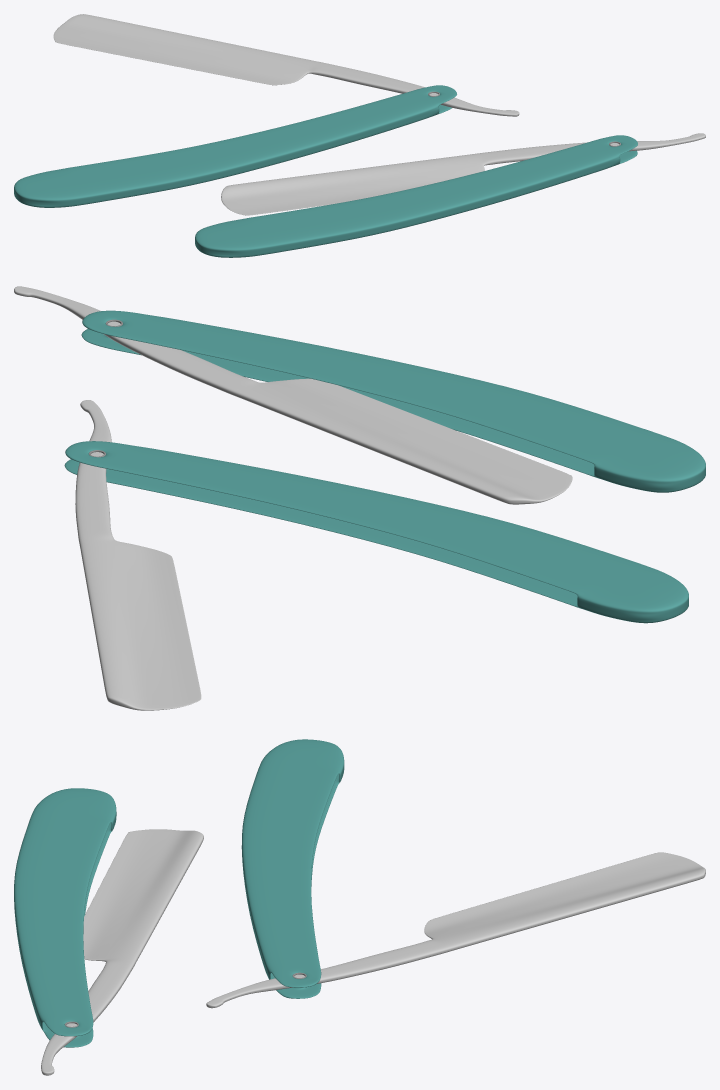
The model's file is 修眉刀.fbx.
The picture shows the model from 3 angles, top to bottom: view 1: azimuth 30°, elevation 25°; view 2: azimuth 150°, elevation 25°; view 3: azimuth 270°, elevation 25°; orthographic projection. The views are drawn at different scales.
Visible parts, largest first — view 1: archmodels vol.90_038_6, archmodels vol.90_038_3, archmodels vol.90_038_5, archmodels vol.90_038_1; view 2: archmodels vol.90_038_3, archmodels vol.90_038_6, archmodels vol.90_038_5, archmodels vol.90_038_1; view 3: archmodels vol.90_038_3, archmodels vol.90_038_6, archmodels vol.90_038_5, archmodels vol.90_038_1.
Boxes of the visible parts, x1=… form: archmodels vol.90_038_6: x1=195, y1=135, x2=637, y2=257; archmodels vol.90_038_3: x1=14, y1=85, x2=456, y2=207; archmodels vol.90_038_5: x1=53, y1=14, x2=519, y2=116; archmodels vol.90_038_1: x1=221, y1=133, x2=705, y2=215; archmodels vol.90_038_3: x1=64, y1=441, x2=688, y2=623; archmodels vol.90_038_6: x1=81, y1=310, x2=705, y2=492; archmodels vol.90_038_5: x1=75, y1=400, x2=201, y2=710; archmodels vol.90_038_1: x1=14, y1=286, x2=572, y2=504; archmodels vol.90_038_3: x1=241, y1=739, x2=344, y2=998; archmodels vol.90_038_6: x1=14, y1=788, x2=116, y2=1047; archmodels vol.90_038_5: x1=206, y1=852, x2=705, y2=1008; archmodels vol.90_038_1: x1=41, y1=829, x2=203, y2=1075.
Size of the model in its own units: 15.44 by 0.2881 by 13.56.
